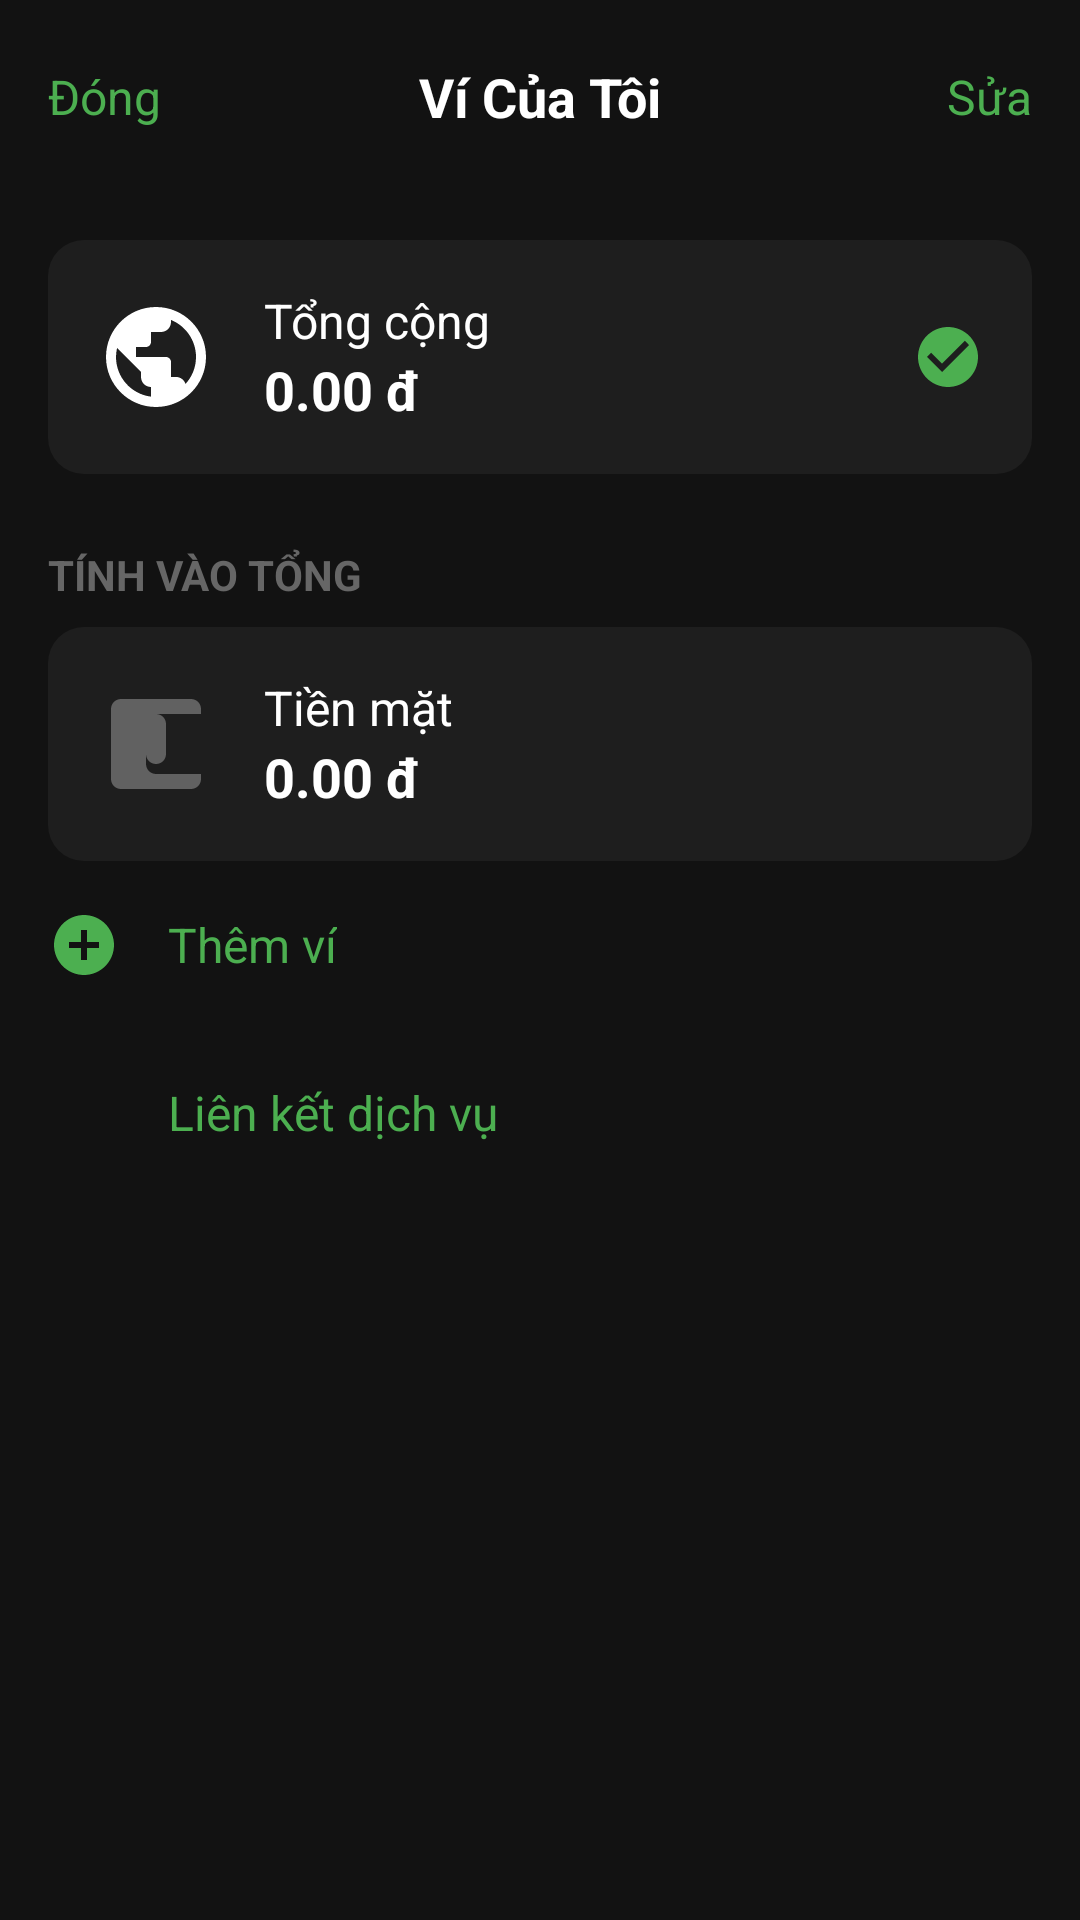

Screen size 1080×1920. Icon name, then its box in pixels as (x1, y1, x2, y2):
add circle: (54, 915, 114, 975)
checkmark circle: (918, 327, 978, 387)
globe: (106, 307, 206, 407)
